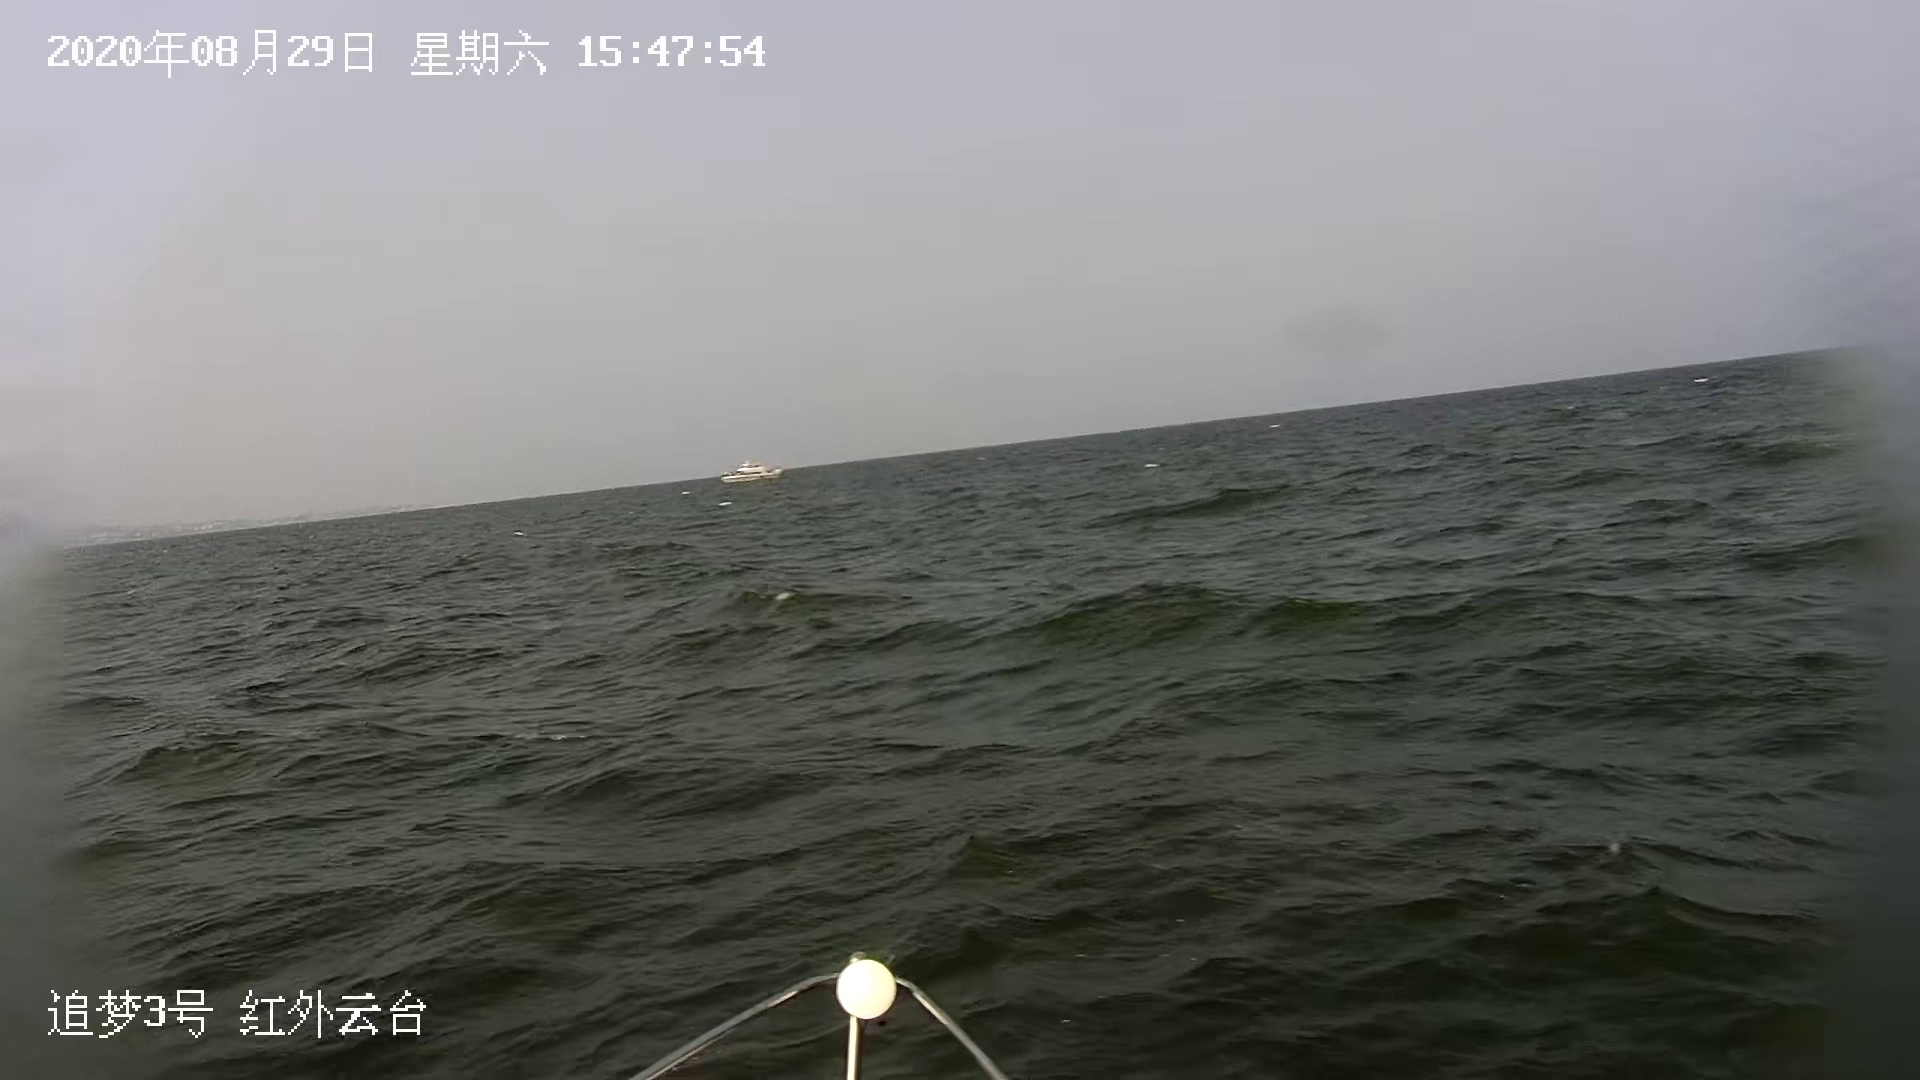barrier: (721, 459, 785, 487)
